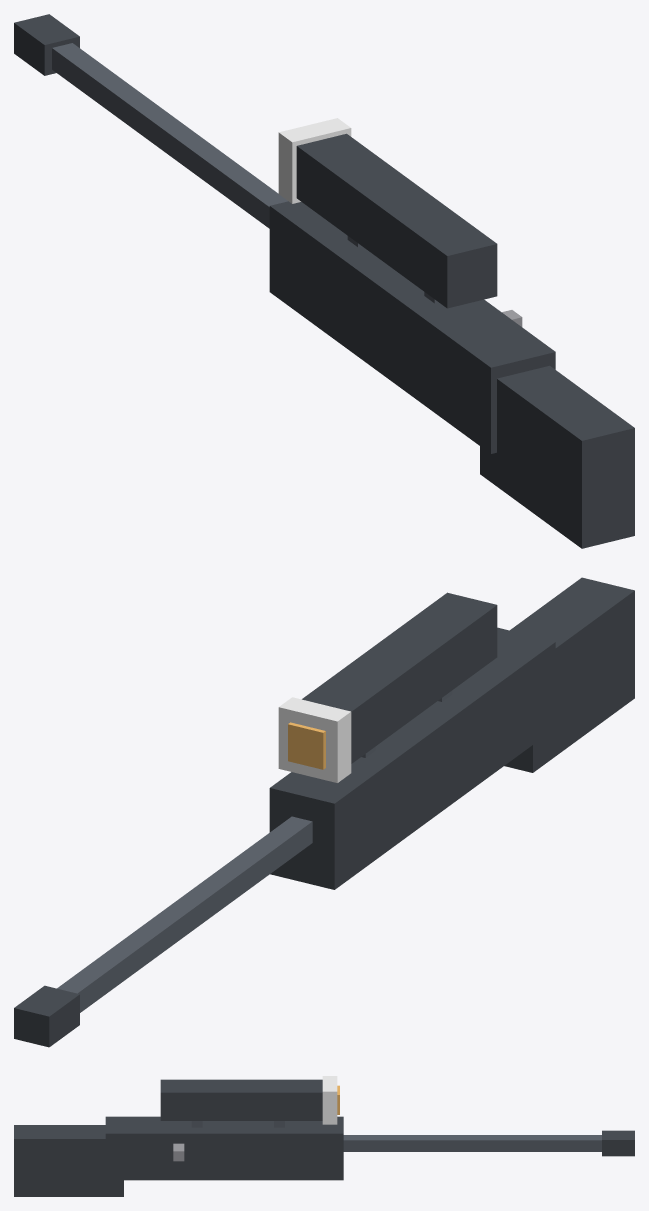
Rendered from SNIPER.gltf.
3 views of the same model, one above another, from view 1: azimuth 30°, elevation 25°; view 2: azimuth 150°, elevation 25°; view 3: azimuth 270°, elevation 25° (orthographic). The views are drawn at different scales.
Visible parts, largest first — view 1: SNIPER; view 2: SNIPER; view 3: SNIPER.
Part boxes in pixels (x1,y1,x2,y2): SNIPER: (14, 14, 634, 548); SNIPER: (14, 577, 634, 1047); SNIPER: (14, 1076, 634, 1196).
Bounding box in the file's own units: 0.064 × 0.128 × 0.678.
